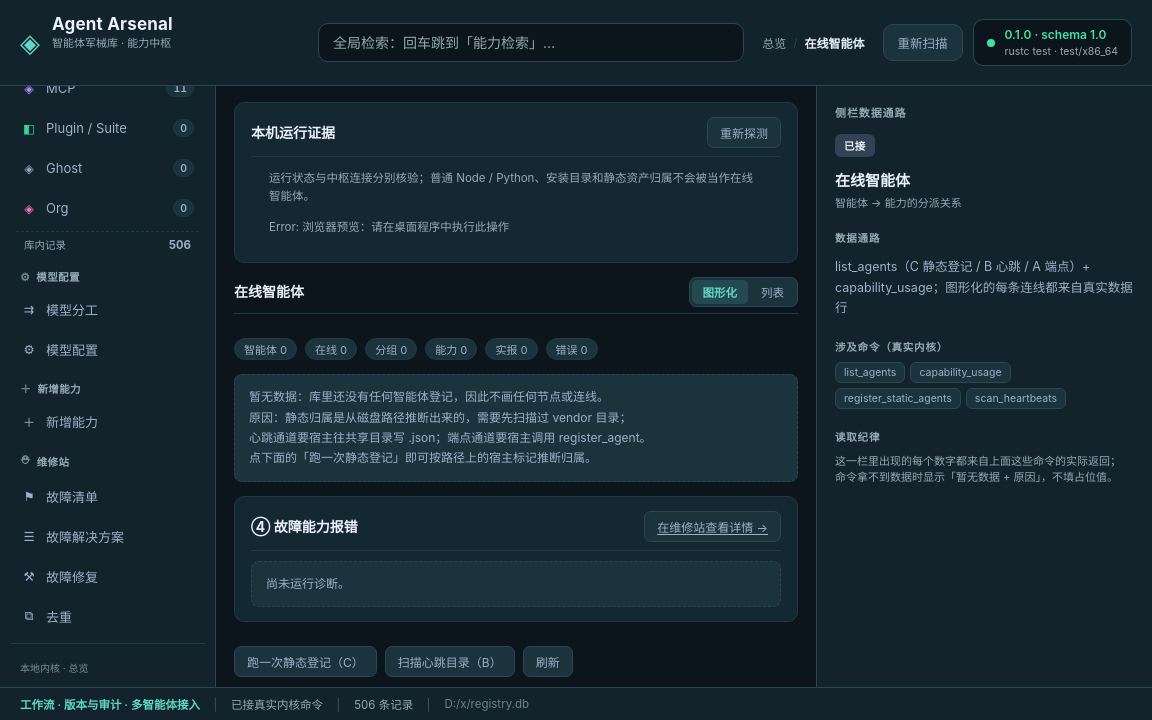
Test: App · 一条侧栏里的分区 → 侧栏 › 维修站「去重」侧栏：待处理资产带上类型，裁决按钮只有一份
This screenshot has width=1152, height=720.
(page scrolled)
Click the button with class "nav-item" showing "⧉ 去重" at (108, 616), box [10,597,205,635]
(page scrolled)
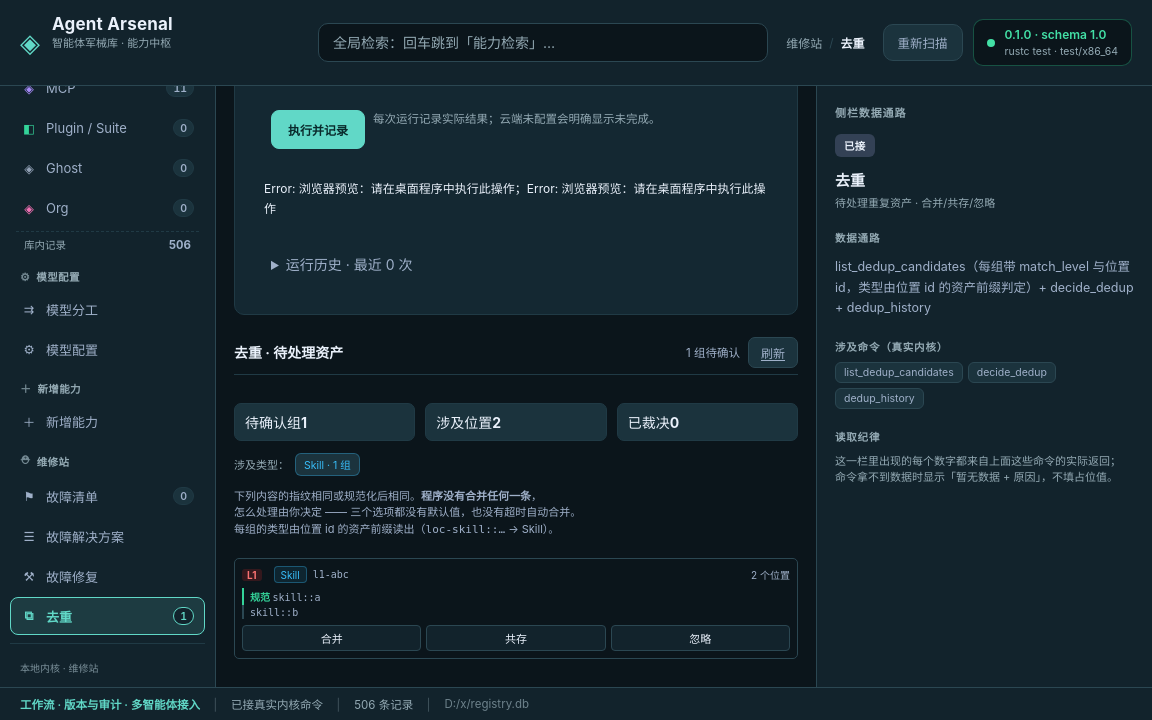
Check: the number of list items with class "dedup-item" is 1, box [234,558,798,659]
Check: the text with class "dedup-kind" reads "Skill", box [280,569,300,581]
Check: the number of elements with class "dedup-actions" is 1, box [242,625,790,651]
